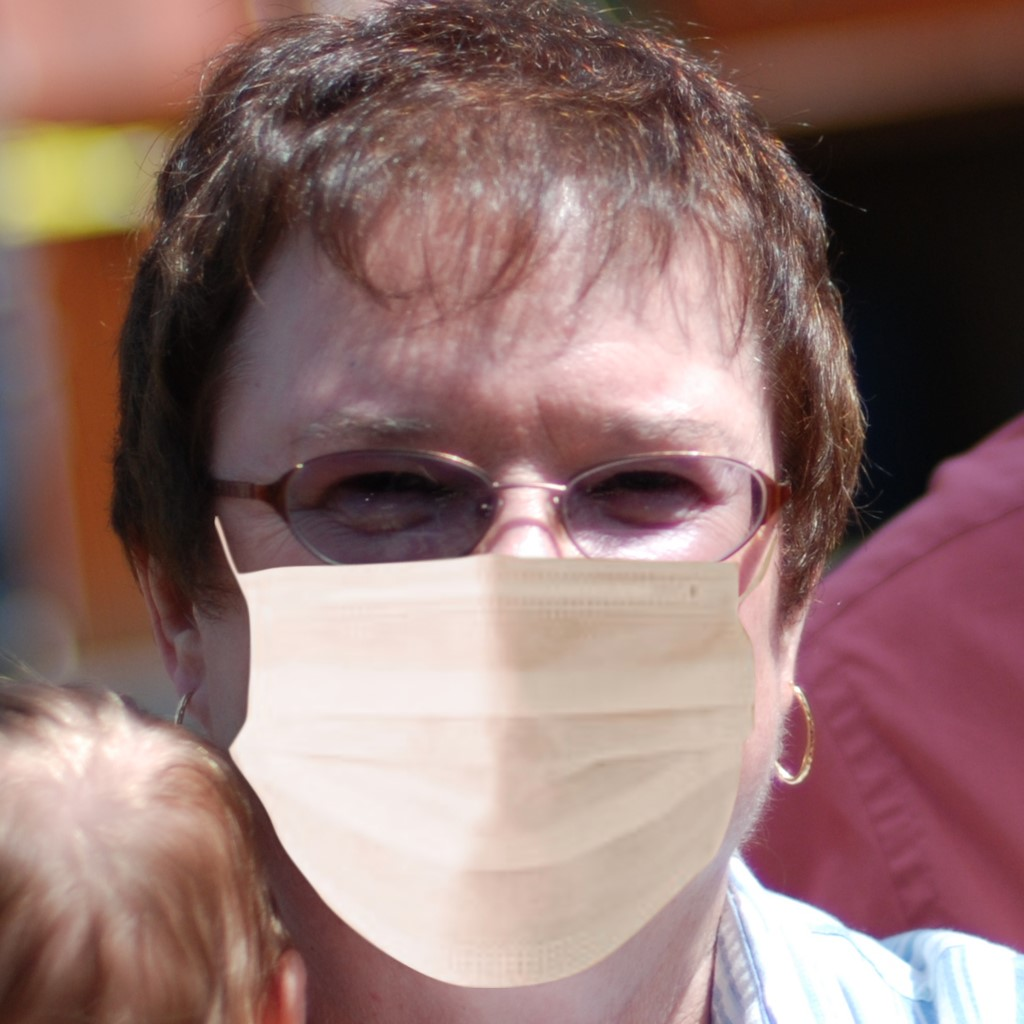con_mascara: (161, 78, 823, 993)
